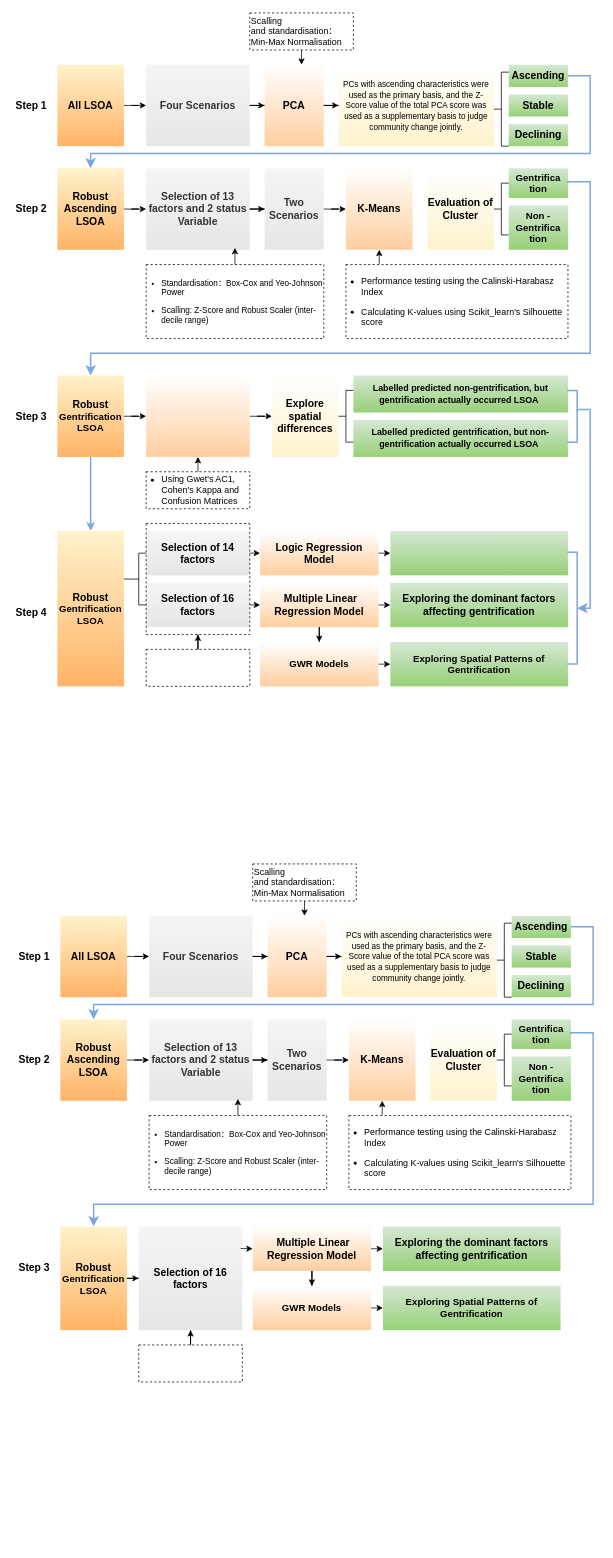
Image size: 613x1558. Some labels were removed from this diagram. The shapes that lost their labels are listed below. From the top down, each one's centre as x and y in pixels, then its label:
(197,416): Compared with predicted Gentrification LSOA
(479,553): Testing for heterogeneity of key factors
(197,667): Using Yeo-Johnson Power and RobustScale
(190,1363): Using Yeo-Johnson Power
